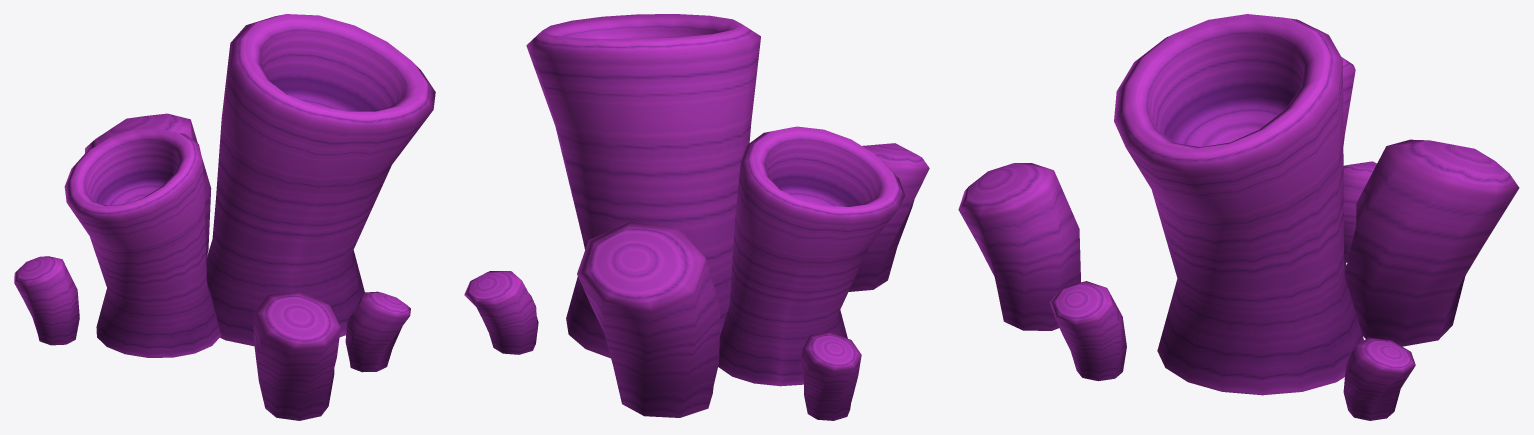
File: PurpleCluster2.fbx
3 renders of one model, left to right at view 1: azimuth 30°, elevation 25°; view 2: azimuth 150°, elevation 25°; view 3: azimuth 270°, elevation 25°, orthographic. The views are drawn at different scales.
Visible parts, largest first — view 1: PurpleCluster2; view 2: PurpleCluster2; view 3: PurpleCluster2.
Part boxes in pixels (x1,y1,x2,y2): PurpleCluster2: [14, 14, 435, 420]; PurpleCluster2: [464, 14, 929, 420]; PurpleCluster2: [958, 14, 1519, 420].
Size of the model in its own units: 100 by 77.77 by 119.
1 material, 1 textured.
